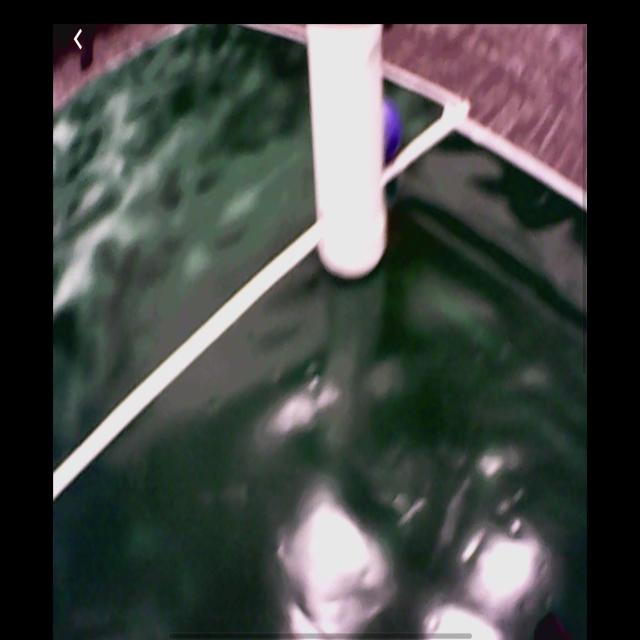ball: (385, 98, 402, 166)
